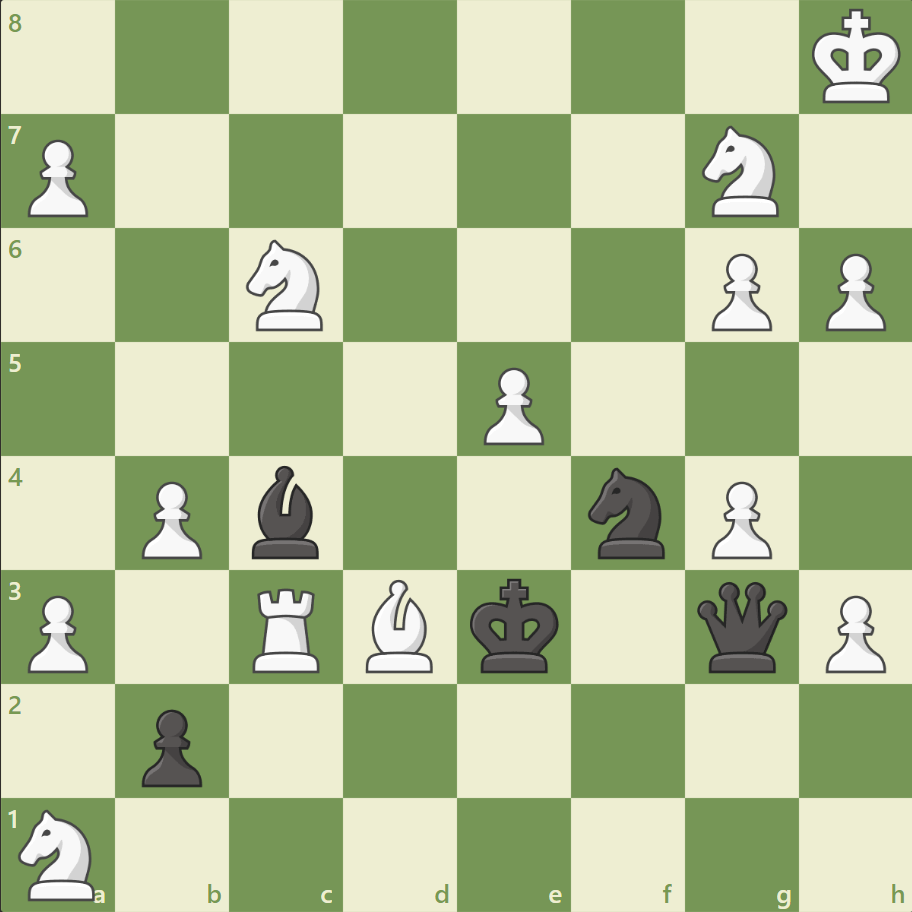B: (358, 574, 442, 676)
K: (806, 4, 906, 112)
N: (238, 234, 335, 337), (692, 121, 789, 223), (11, 802, 108, 904)
P: (20, 132, 95, 223), (701, 246, 776, 337), (474, 359, 549, 450), (133, 473, 208, 564), (701, 473, 776, 564), (20, 586, 95, 677), (815, 246, 889, 337), (815, 586, 889, 677)
R: (246, 579, 329, 676)
b: (244, 460, 328, 563)
k: (465, 571, 565, 679)
n: (579, 461, 676, 564)
p: (133, 700, 208, 791)
q: (691, 576, 790, 676)
